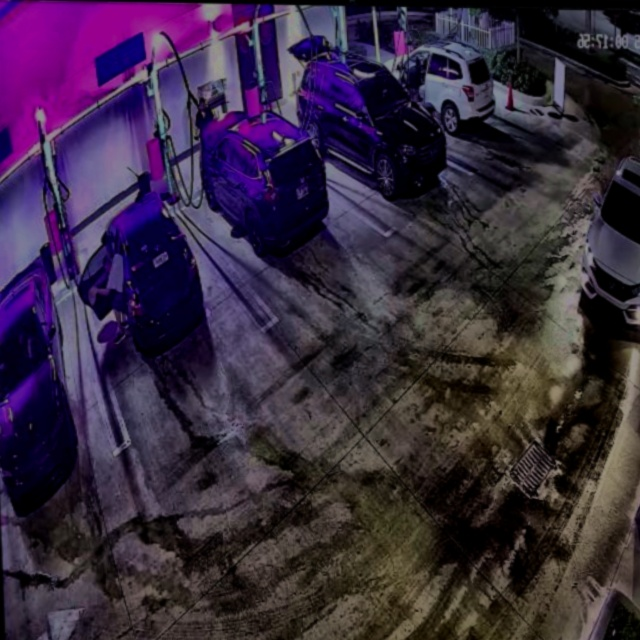Car: (290, 34, 446, 194), (74, 185, 208, 343), (203, 95, 325, 256)
